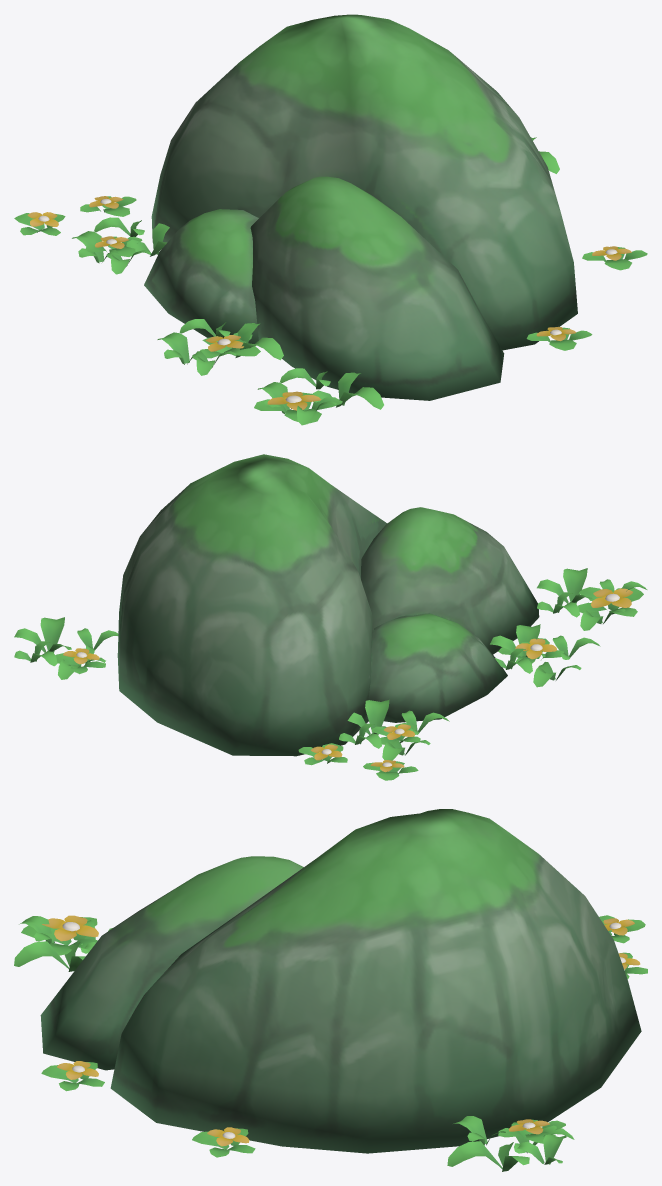
The model's file is Stone_02.fbx.
3 views of the same model, one above another, from view 1: azimuth 30°, elevation 25°; view 2: azimuth 150°, elevation 25°; view 3: azimuth 270°, elevation 25° (orthographic). The views are drawn at different scales.
Parts seen in each view (by area): view 1: Stone_02; view 2: Stone_02; view 3: Stone_02.
Part boxes in pixels (x1,y1,x2,y2): Stone_02: (14, 14, 647, 425); Stone_02: (14, 454, 647, 780); Stone_02: (14, 809, 647, 1171).
Bounding box in the file's own units: 929 × 417 × 942.
